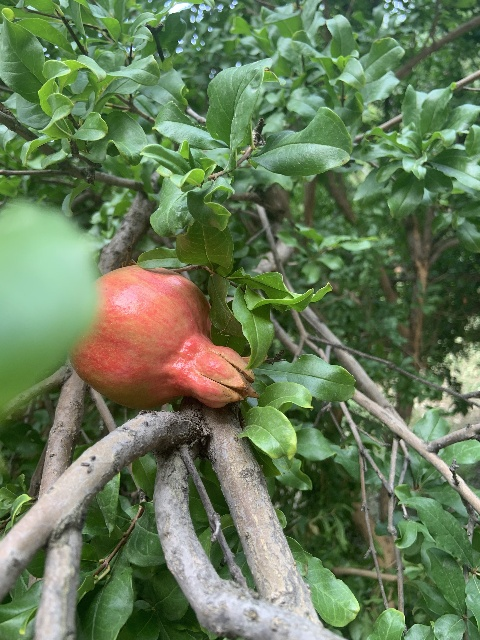ripe: (70, 265, 258, 408)
